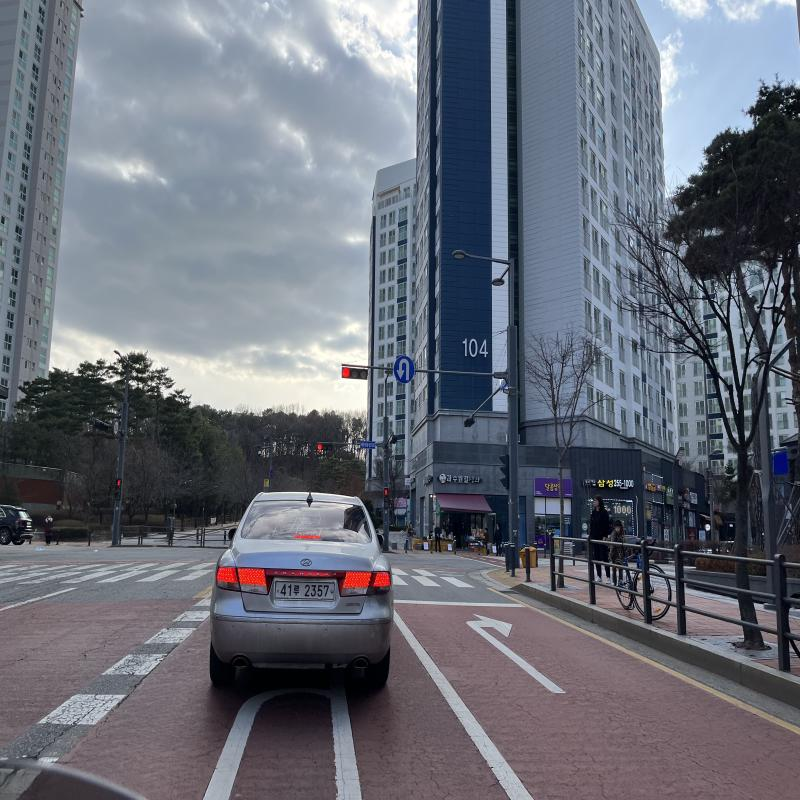red: (342, 367, 350, 378)
